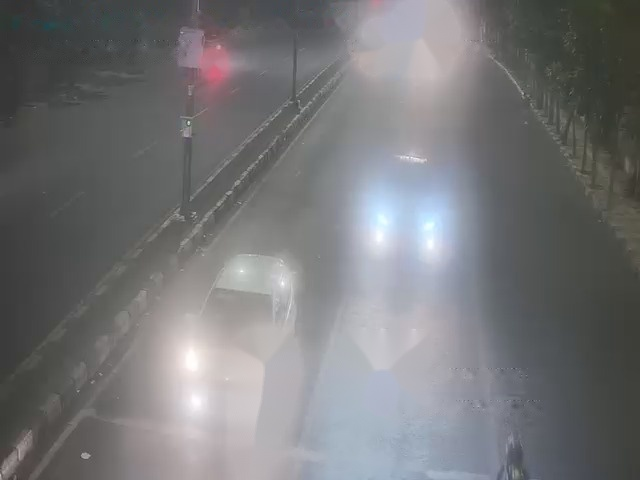Mobil: (189, 243, 291, 410), (374, 145, 444, 262)
